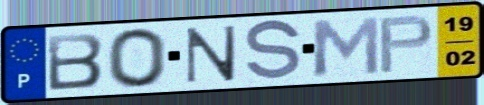B: (44, 31, 107, 92)
M: (307, 14, 382, 78)
N: (183, 23, 240, 85)
O: (105, 26, 171, 90)
P: (376, 13, 436, 76)
S: (242, 17, 305, 85)
